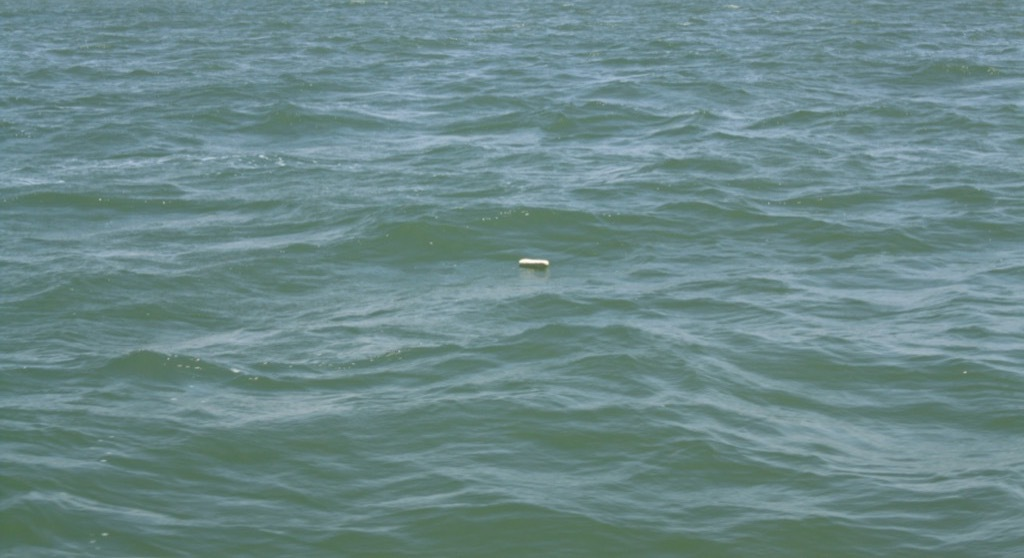plastic: (509, 254, 558, 274)
